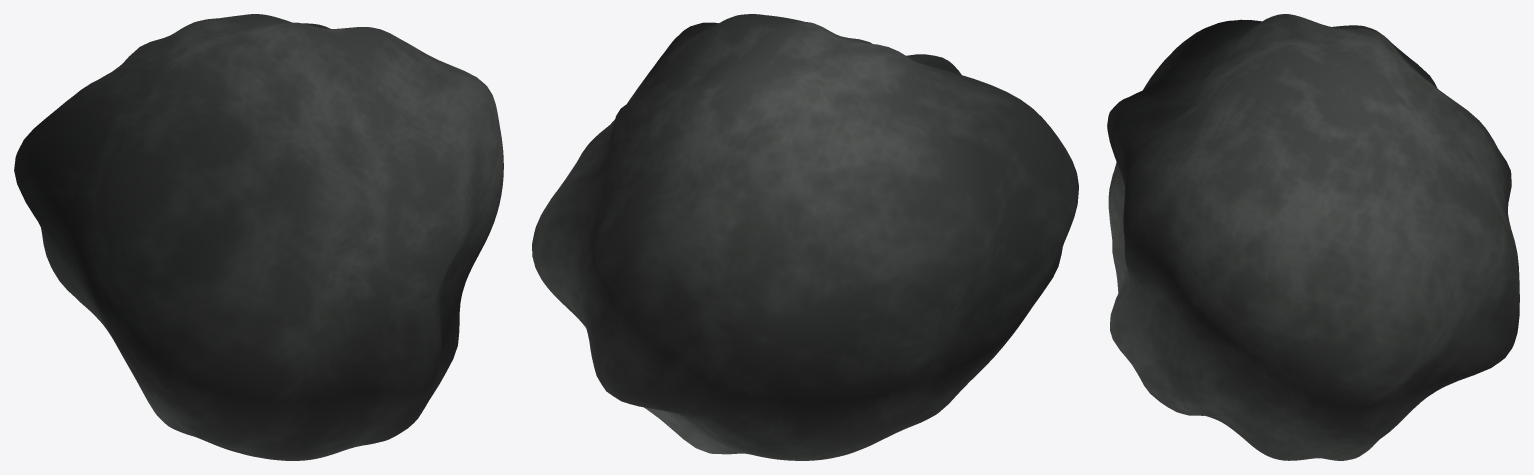
Rendered from asteroid-cobble.glb.
3 views of the same model, side by side, from view 1: azimuth 30°, elevation 25°; view 2: azimuth 150°, elevation 25°; view 3: azimuth 270°, elevation 25° (orthographic). The views are drawn at different scales.
Parts seen in each view (by area): view 1: asteroid_5007; view 2: asteroid_5007; view 3: asteroid_5007.
Boxes of the visible parts, bbox=[...] form: asteroid_5007: bbox=[14, 14, 503, 460]; asteroid_5007: bbox=[532, 14, 1078, 460]; asteroid_5007: bbox=[1107, 14, 1519, 460].
Size of the model in its own units: 62.52 by 56.47 by 54.86.
Materials: 1 (1 with a texture image).
